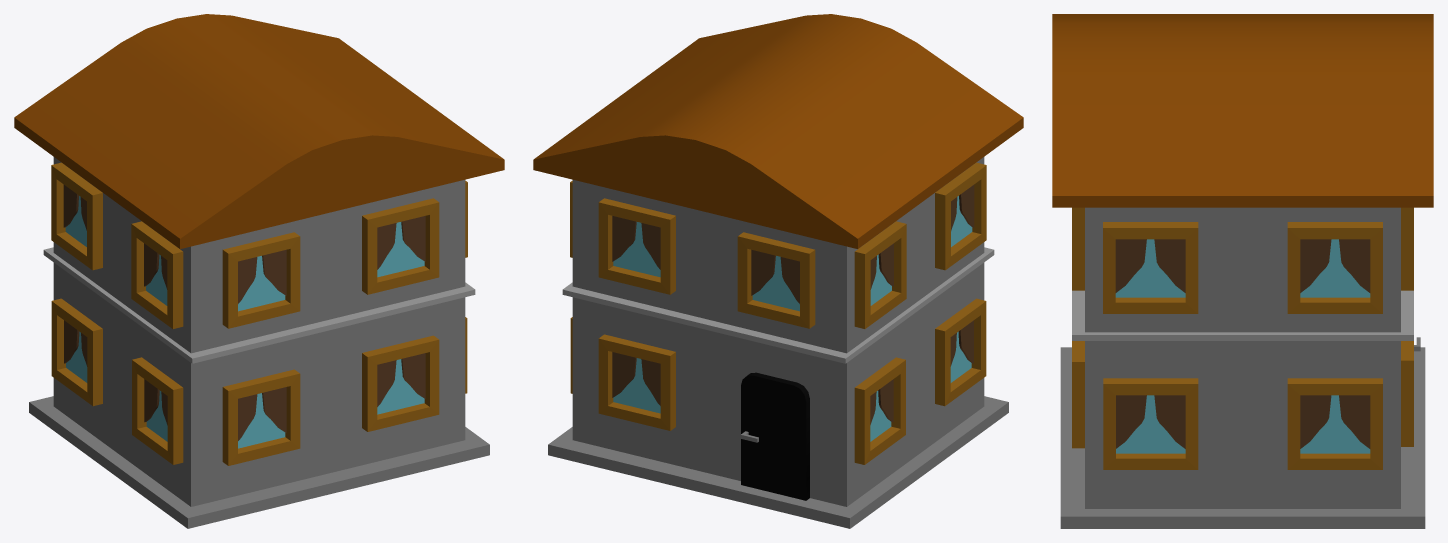
The model's file is House9.fbx.
3 renders of one model, left to right at view 1: azimuth 30°, elevation 25°; view 2: azimuth 150°, elevation 25°; view 3: azimuth 270°, elevation 25°, orthographic. The views are drawn at different scales.
Parts seen in each view (by area): view 1: House.009; view 2: House.009; view 3: House.009.
Part boxes in pixels (<box>): House.009: <box>14,14,504,528</box>; House.009: <box>533,14,1023,528</box>; House.009: <box>1052,14,1433,528</box>.
Bounding box in the file's own units: 813 × 849 × 720.
